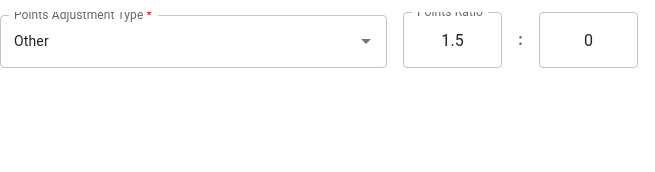
Test: PointsAdjustmentTypeField › cross-field error visibility › shows the "use the dropdown" error when changing only the 1st (referrer) input creates a forbidden combo
Replace the text in the field labelled "Points Ratio" with "2" at (453, 40), box top-left (403, 12), bottom-right (502, 68)
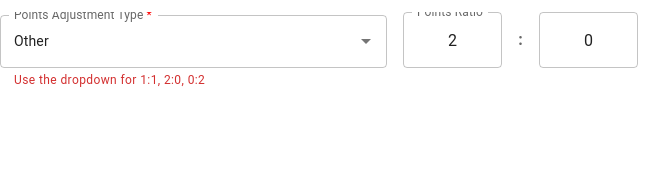
Check: the text "Use the dropdown for 1:1, 2:0, 0:2" is shown, box top-left (14, 73), bottom-right (205, 87)
